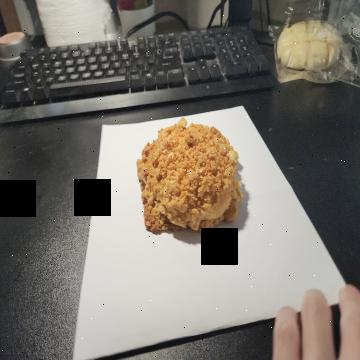soboru_bread: (135, 117, 241, 240)
